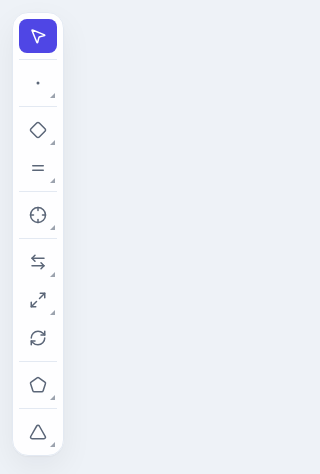
Test: ConstructionToolbar › groups intersection, tangent and circumcircle under Circle constructions
Click the button named "Circle constructions" at x=38, y=215, box top-left (19, 198), bottom-right (57, 232)
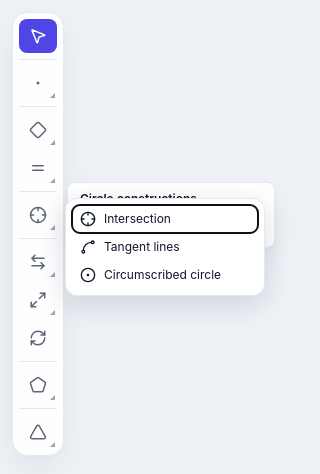
Click the menu item "Tangent lines" at x=165, y=247, box top-left (72, 233), bottom-right (258, 261)
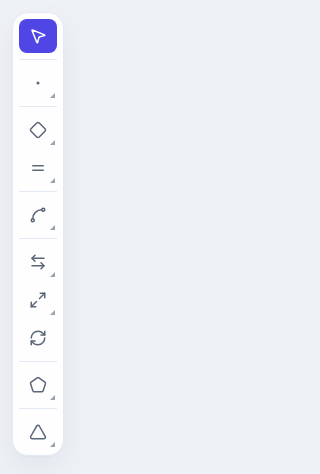
Now the menu is gone
